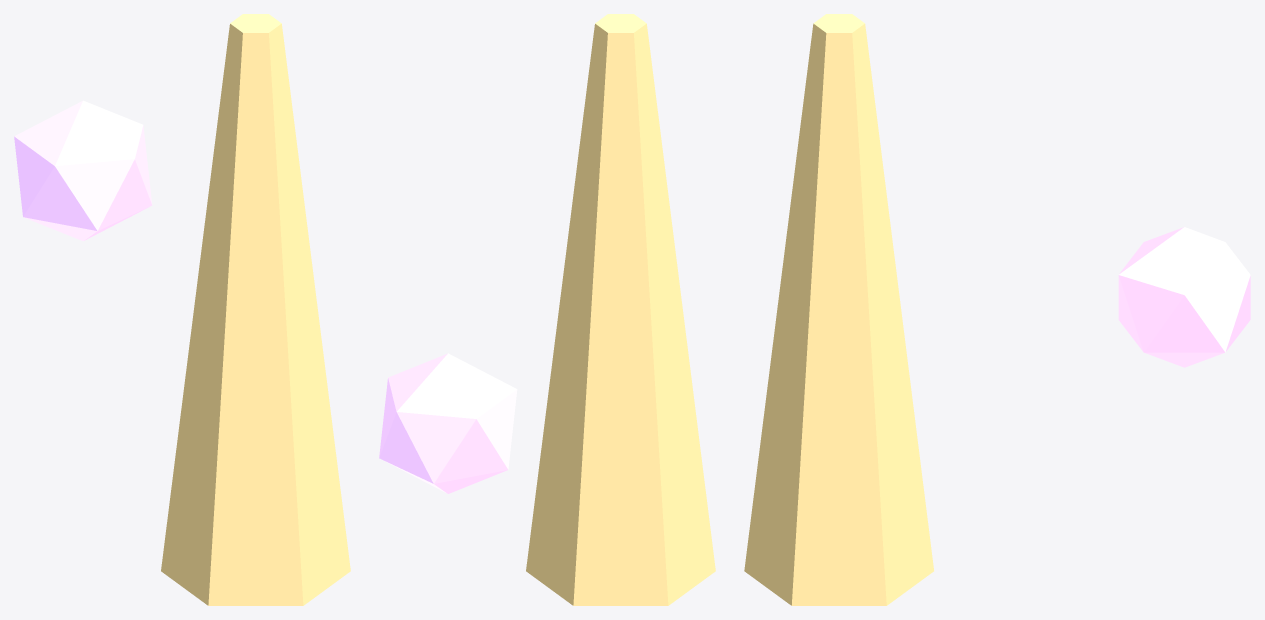
Rendered from hut_finial.glb.
The picture shows the model from 3 angles, left to right: view 1: azimuth 30°, elevation 25°; view 2: azimuth 150°, elevation 25°; view 3: azimuth 270°, elevation 25°; orthographic projection.
Visible parts, largest first — view 1: spire, orb; view 2: spire, orb; view 3: spire, orb.
Part boxes in pixels (bbox=[...]): spire: bbox=[161, 14, 350, 605]; orb: bbox=[14, 100, 152, 241]; spire: bbox=[526, 14, 715, 605]; orb: bbox=[379, 353, 517, 493]; spire: bbox=[744, 14, 933, 605]; orb: bbox=[1118, 227, 1250, 367].
Bounding box in the file's own units: 0.3811 × 1.4 × 1.17.
